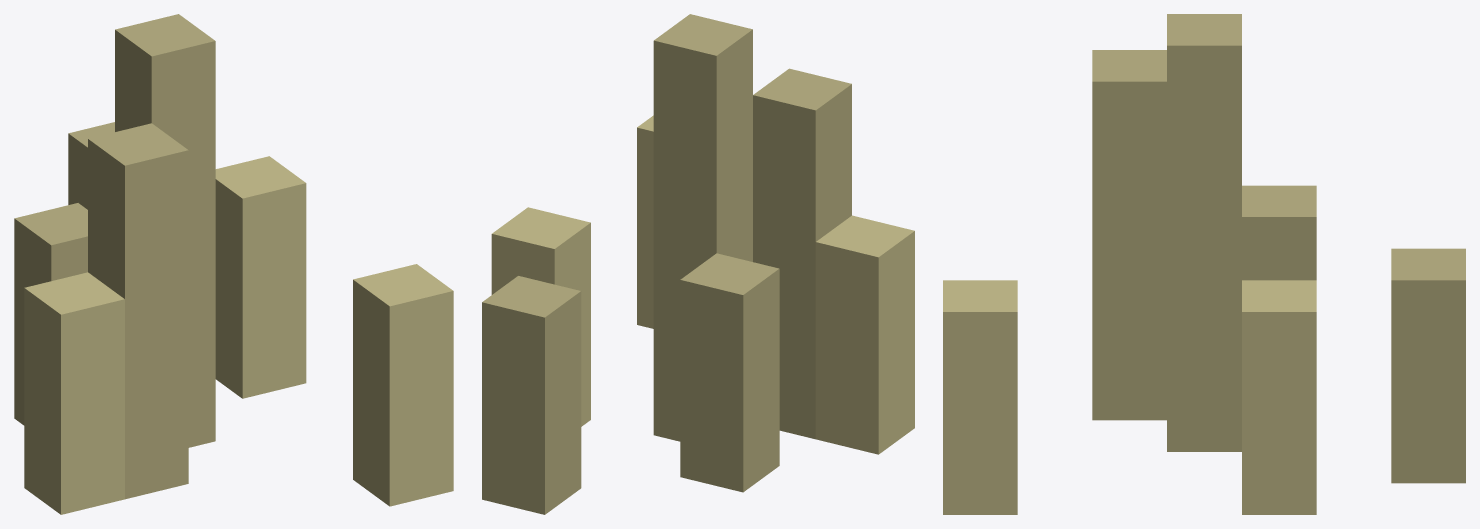
The model's file is hierba_de_estepa_02.glb.
3 views of the same model, side by side, from view 1: azimuth 30°, elevation 25°; view 2: azimuth 150°, elevation 25°; view 3: azimuth 270°, elevation 25° (orthographic). The views are drawn at different scales.
Parts seen in each view (by area): view 1: hierba_de_estepa_02; view 2: hierba_de_estepa_02; view 3: hierba_de_estepa_02.
Part boxes in pixels (box(x1,y1,x2,y2)): hierba_de_estepa_02: box(14, 14, 453, 514); hierba_de_estepa_02: box(482, 14, 914, 514); hierba_de_estepa_02: box(943, 14, 1465, 514).
Size of the model in its own units: 0.5 by 0.6 by 0.7.
